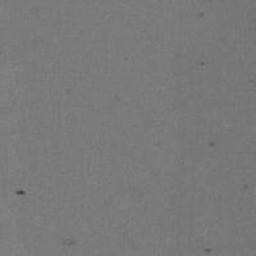Inclusion: (61, 238, 77, 247), (15, 189, 27, 197), (197, 12, 205, 19), (207, 141, 215, 148), (63, 87, 72, 93), (200, 60, 206, 68), (204, 247, 211, 253), (248, 79, 256, 84)
